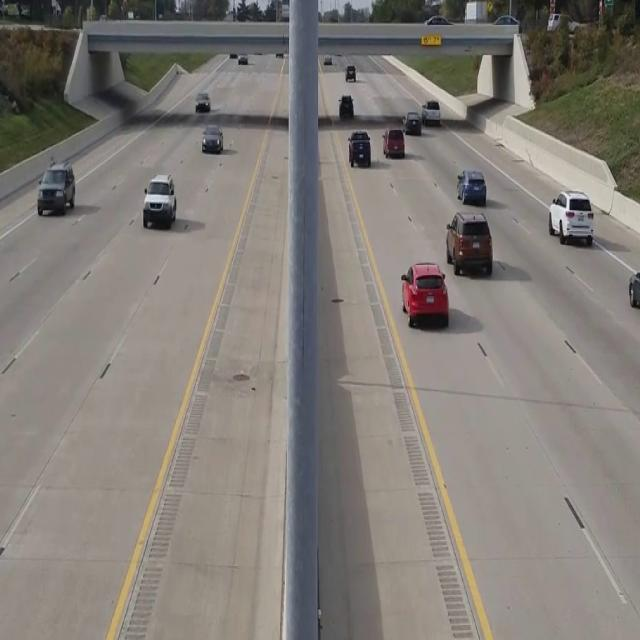car: (400, 262, 449, 328), (446, 210, 492, 276), (548, 190, 593, 245), (37, 163, 75, 215), (142, 174, 177, 228), (456, 167, 486, 205), (348, 130, 370, 168), (628, 262, 640, 326), (382, 128, 404, 158), (202, 125, 223, 153), (194, 92, 210, 111)
